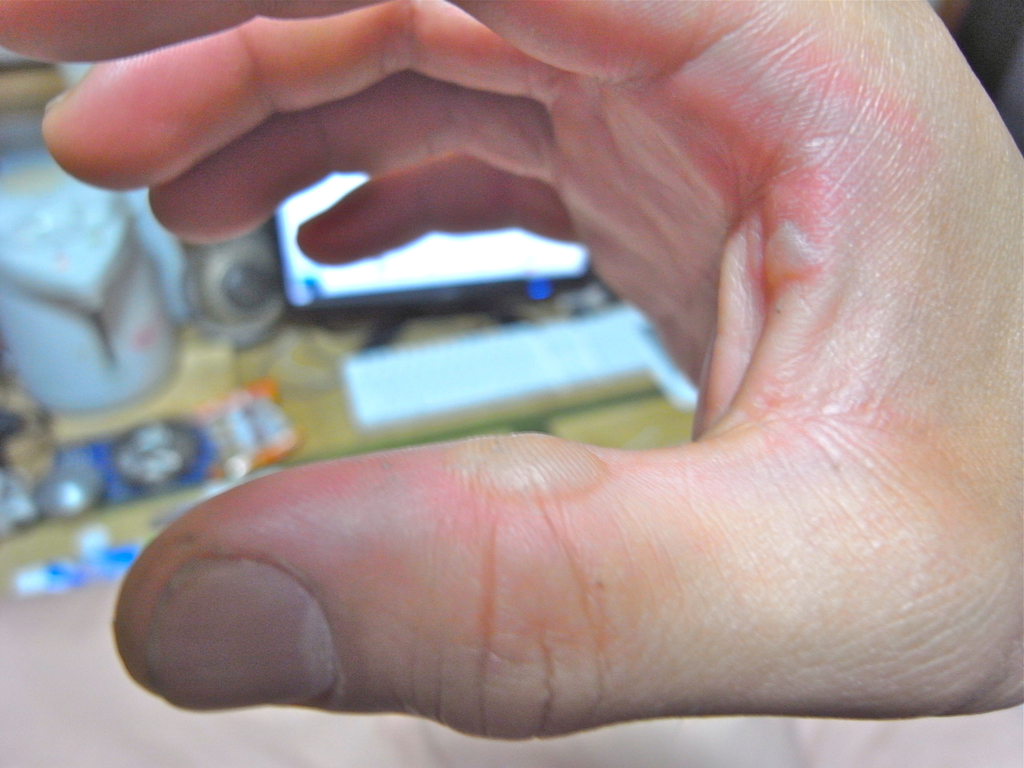Human_hand: (4, 0, 1023, 756)
